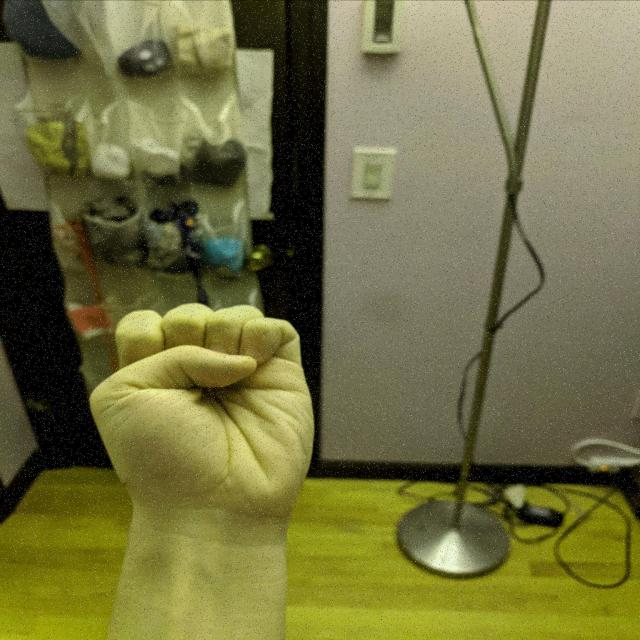E: (82, 298, 322, 534)
